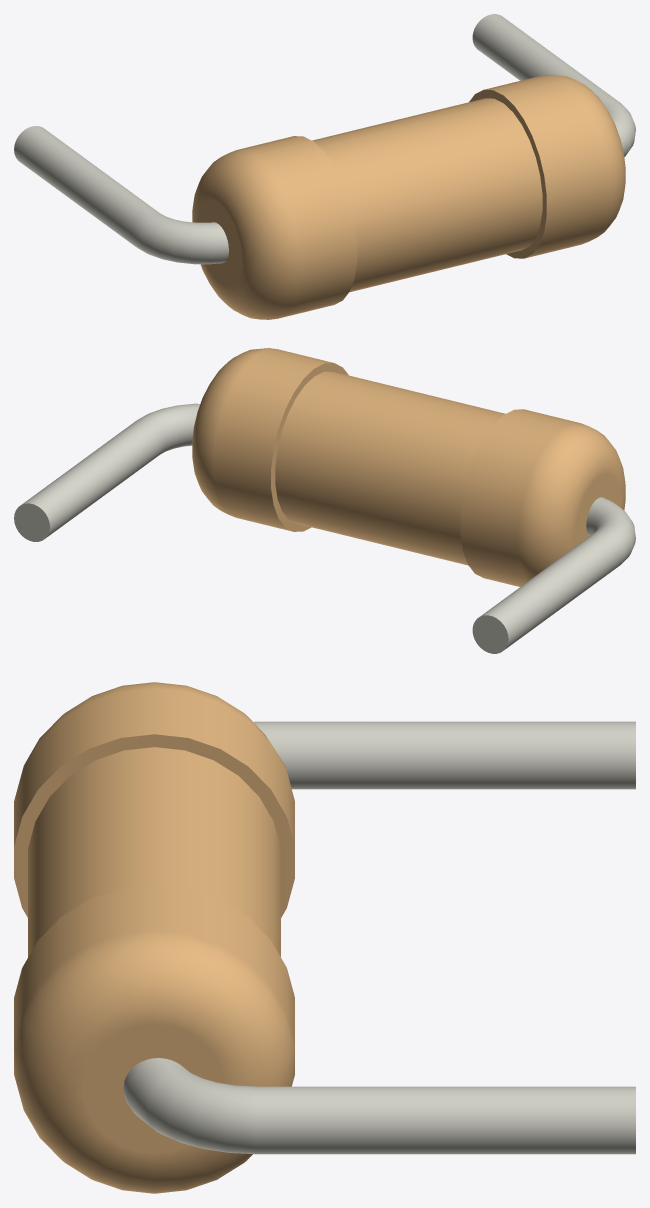
The model's file is R_Axial_DIN0207_P7.62mm.glb.
3 renders of one model, top to bottom at view 1: azimuth 30°, elevation 25°; view 2: azimuth 150°, elevation 25°; view 3: azimuth 270°, elevation 25°, orthographic. The views are drawn at different scales.
Parts seen in each view (by area): view 1: R_Axial_DIN0207_L63mm_D25mm_P762mm_Horizontal_608c07, R_Axial_DIN0207_L63mm_D25mm_P762mm_Horizontal_f77957; view 2: R_Axial_DIN0207_L63mm_D25mm_P762mm_Horizontal_608c07, R_Axial_DIN0207_L63mm_D25mm_P762mm_Horizontal_f77957; view 3: R_Axial_DIN0207_L63mm_D25mm_P762mm_Horizontal_608c07, R_Axial_DIN0207_L63mm_D25mm_P762mm_Horizontal_f77957.
Part boxes in pixels (<box>): R_Axial_DIN0207_L63mm_D25mm_P762mm_Horizontal_608c07: <box>192,75,625,319</box>; R_Axial_DIN0207_L63mm_D25mm_P762mm_Horizontal_f77957: <box>14,14,635,264</box>; R_Axial_DIN0207_L63mm_D25mm_P762mm_Horizontal_608c07: <box>192,348,625,586</box>; R_Axial_DIN0207_L63mm_D25mm_P762mm_Horizontal_f77957: <box>14,403,635,653</box>; R_Axial_DIN0207_L63mm_D25mm_P762mm_Horizontal_608c07: <box>14,682,294,1193</box>; R_Axial_DIN0207_L63mm_D25mm_P762mm_Horizontal_f77957: <box>123,721,635,1154</box>.
Bounding box in the file's own units: 0.00822 × 0.0025 × 0.00549.
